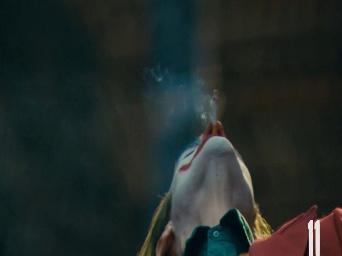smoke: (210, 88, 218, 140)
